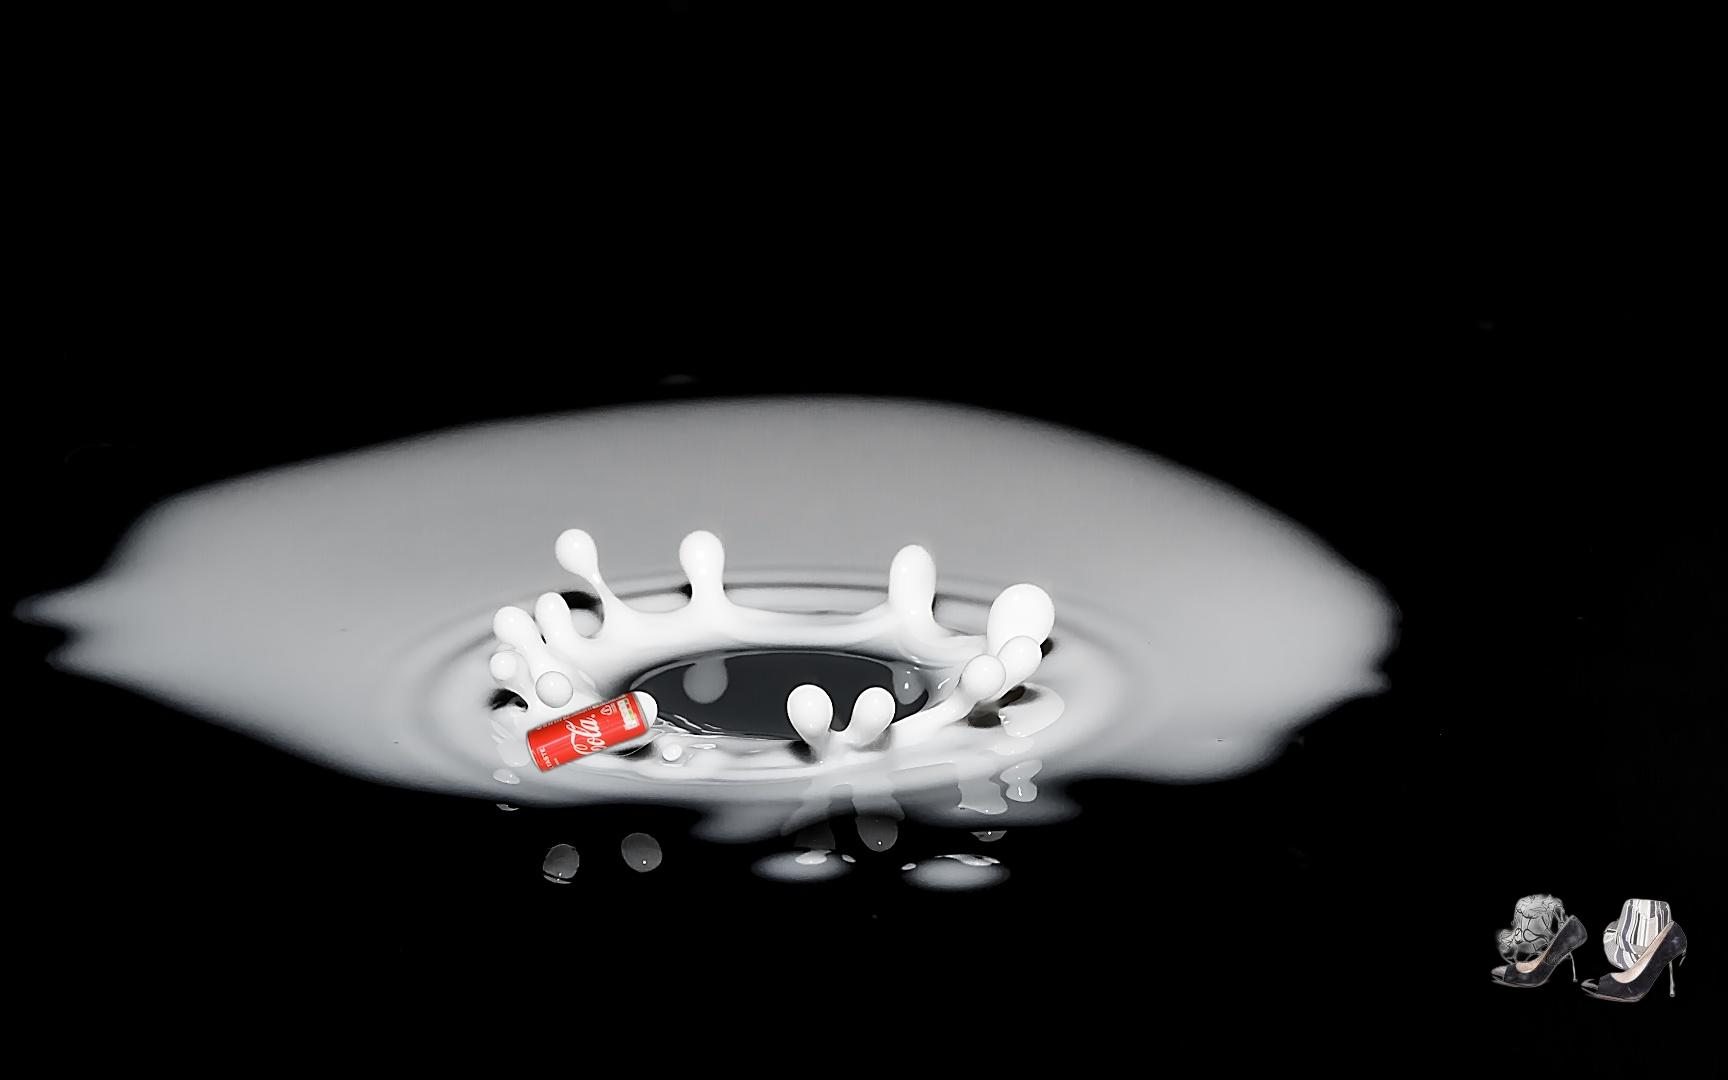metal-cans: (521, 686, 653, 778)
shoes: (1487, 886, 1689, 1005)
